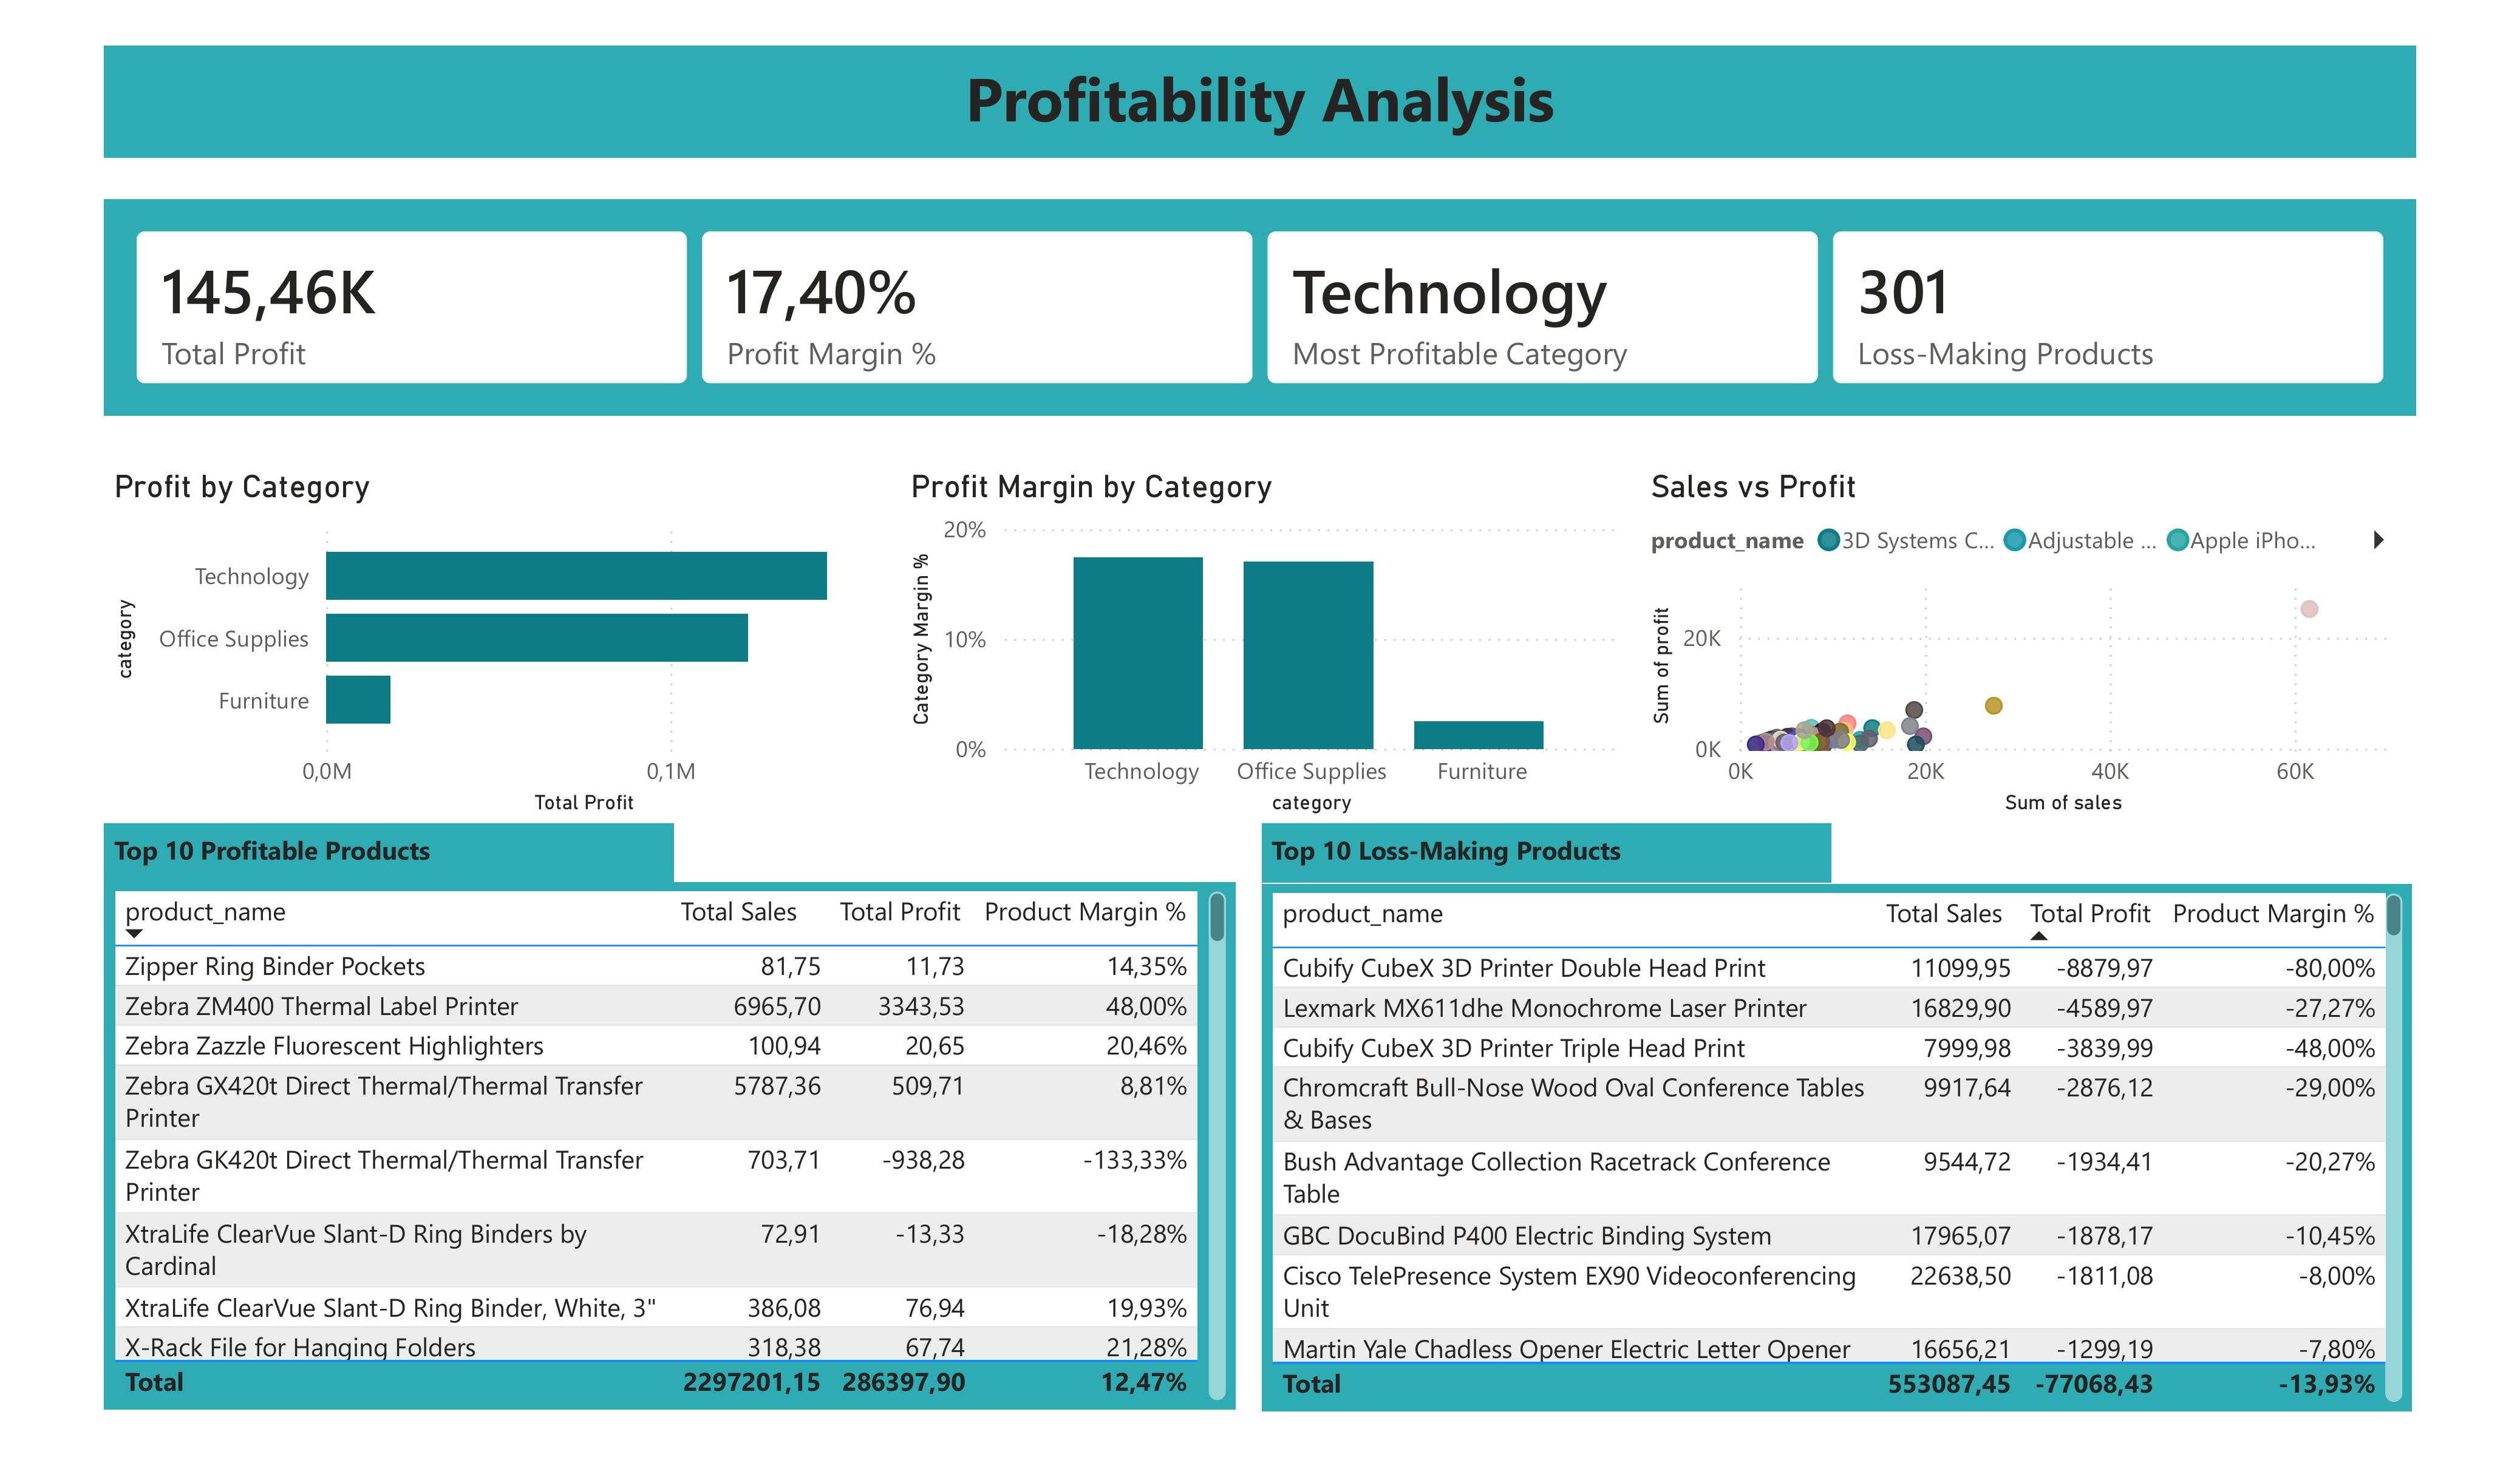

The dashboard page shown, as its layout file describes it:
{"tool":"powerbi","page":{"name":"Profitability Analysis","canvas":[1280,720],"ordinal":3},"visuals":[{"type":"textbox","box":[30.5,0,1218.6,59.3],"z":0},{"type":"cardVisual","fields":{"Data":["superstore_clean.Total Profit","superstore_clean.Profit Margin %","Min(superstore_clean.category)","superstore_clean.Loss Products"]},"box":[30.5,81.4,1218.6,113.6],"z":1000},{"type":"barChart","title":"Profit by Category","fields":{"Category":["superstore_clean.category"],"Y":["superstore_clean.Total Profit"]},"box":[30.5,222,408.5,188.1],"z":1001},{"type":"columnChart","title":"Profit Margin by Category","fields":{"Category":["superstore_clean.category"],"Y":["Product Summary.Category Margin %"]},"box":[450.8,222,383.1,188.1],"z":1002},{"type":"scatterChart","title":"Sales vs Profit","fields":{"X":["Sum(superstore_clean.sales)"],"Y":["Sum(superstore_clean.profit)"],"Series":["superstore_clean.product_name"]},"box":[840.7,222,408.5,188.1],"z":1003},{"type":"tableEx","fields":{"Values":["superstore_clean.product_name","superstore_clean.Total Sales","superstore_clean.Total Profit","Product Summary.Product Margin %"]},"box":[30.5,440.7,596.6,278],"z":1004},{"type":"tableEx","fields":{"Values":["superstore_clean.product_name","superstore_clean.Total Sales","superstore_clean.Total Profit","Product Summary.Product Margin %"]},"box":[640.7,442,606.8,278],"z":1005},{"type":"textbox","box":[30.5,410.2,300,30.5],"z":1006},{"type":"textbox","box":[640.7,410.2,300,30.5],"z":1007}]}

Visuals, with their boxes on the page's 1280x720 design canvas (x1, y1, x2, y2). These are canvas units, not pixel positions in the 2520x1457 screenshot, which may show the page scaled, cropped or inside an application window:
textbox: box(30, 0, 1249, 59)
cardVisual - superstore_clean.Total Profit x superstore_clean.Profit Margin %: box(30, 81, 1249, 195)
"Profit by Category" barChart: box(30, 222, 439, 410)
"Profit Margin by Category" columnChart: box(451, 222, 834, 410)
"Sales vs Profit" scatterChart: box(841, 222, 1249, 410)
tableEx - superstore_clean.product_name x superstore_clean.Total Sales: box(30, 441, 627, 719)
tableEx - superstore_clean.product_name x superstore_clean.Total Sales: box(641, 442, 1248, 720)
textbox: box(30, 410, 330, 441)
textbox: box(641, 410, 941, 441)
